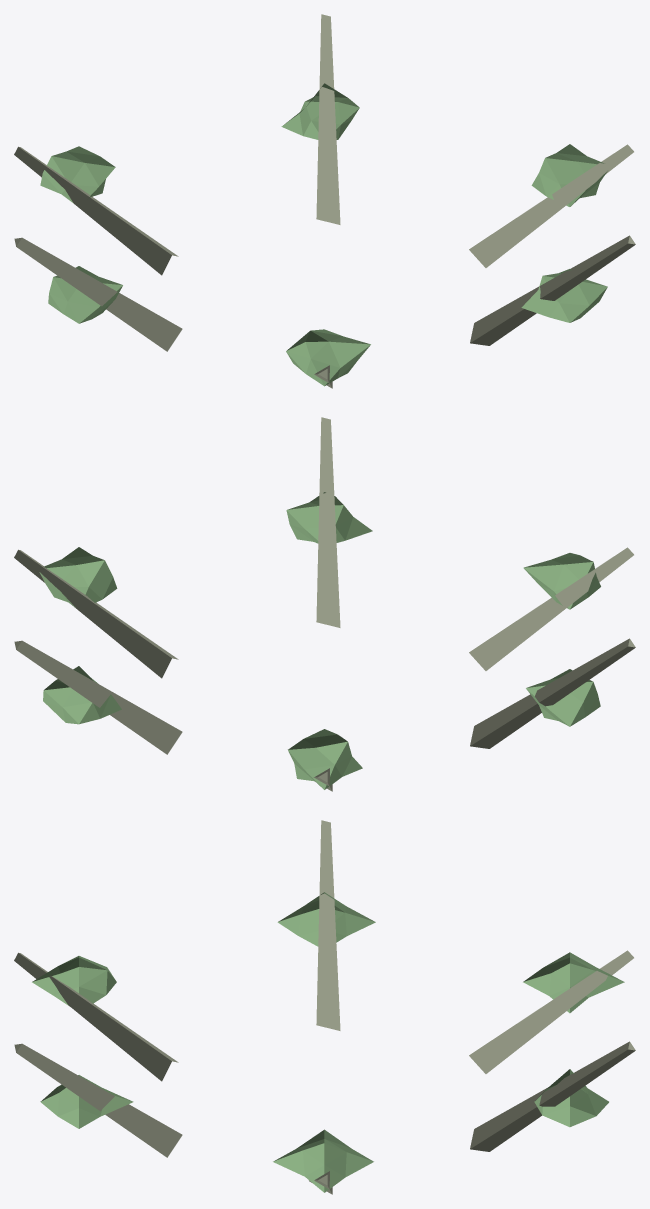
The model's file is bramble_v31.glb.
3 views of the same model, one above another, from view 1: azimuth 30°, elevation 25°; view 2: azimuth 150°, elevation 25°; view 3: azimuth 270°, elevation 25° (orthographic).
Visible parts, largest first — view 1: lod0; view 2: lod0; view 3: lod0.
Part boxes in pixels (x1,y1,x2,y2): lod0: [14, 14, 635, 388]; lod0: [14, 417, 635, 791]; lod0: [14, 820, 635, 1194].
Size of what is drawn, in the model's own units: 1.11 by 0.2562 by 0.9691.
